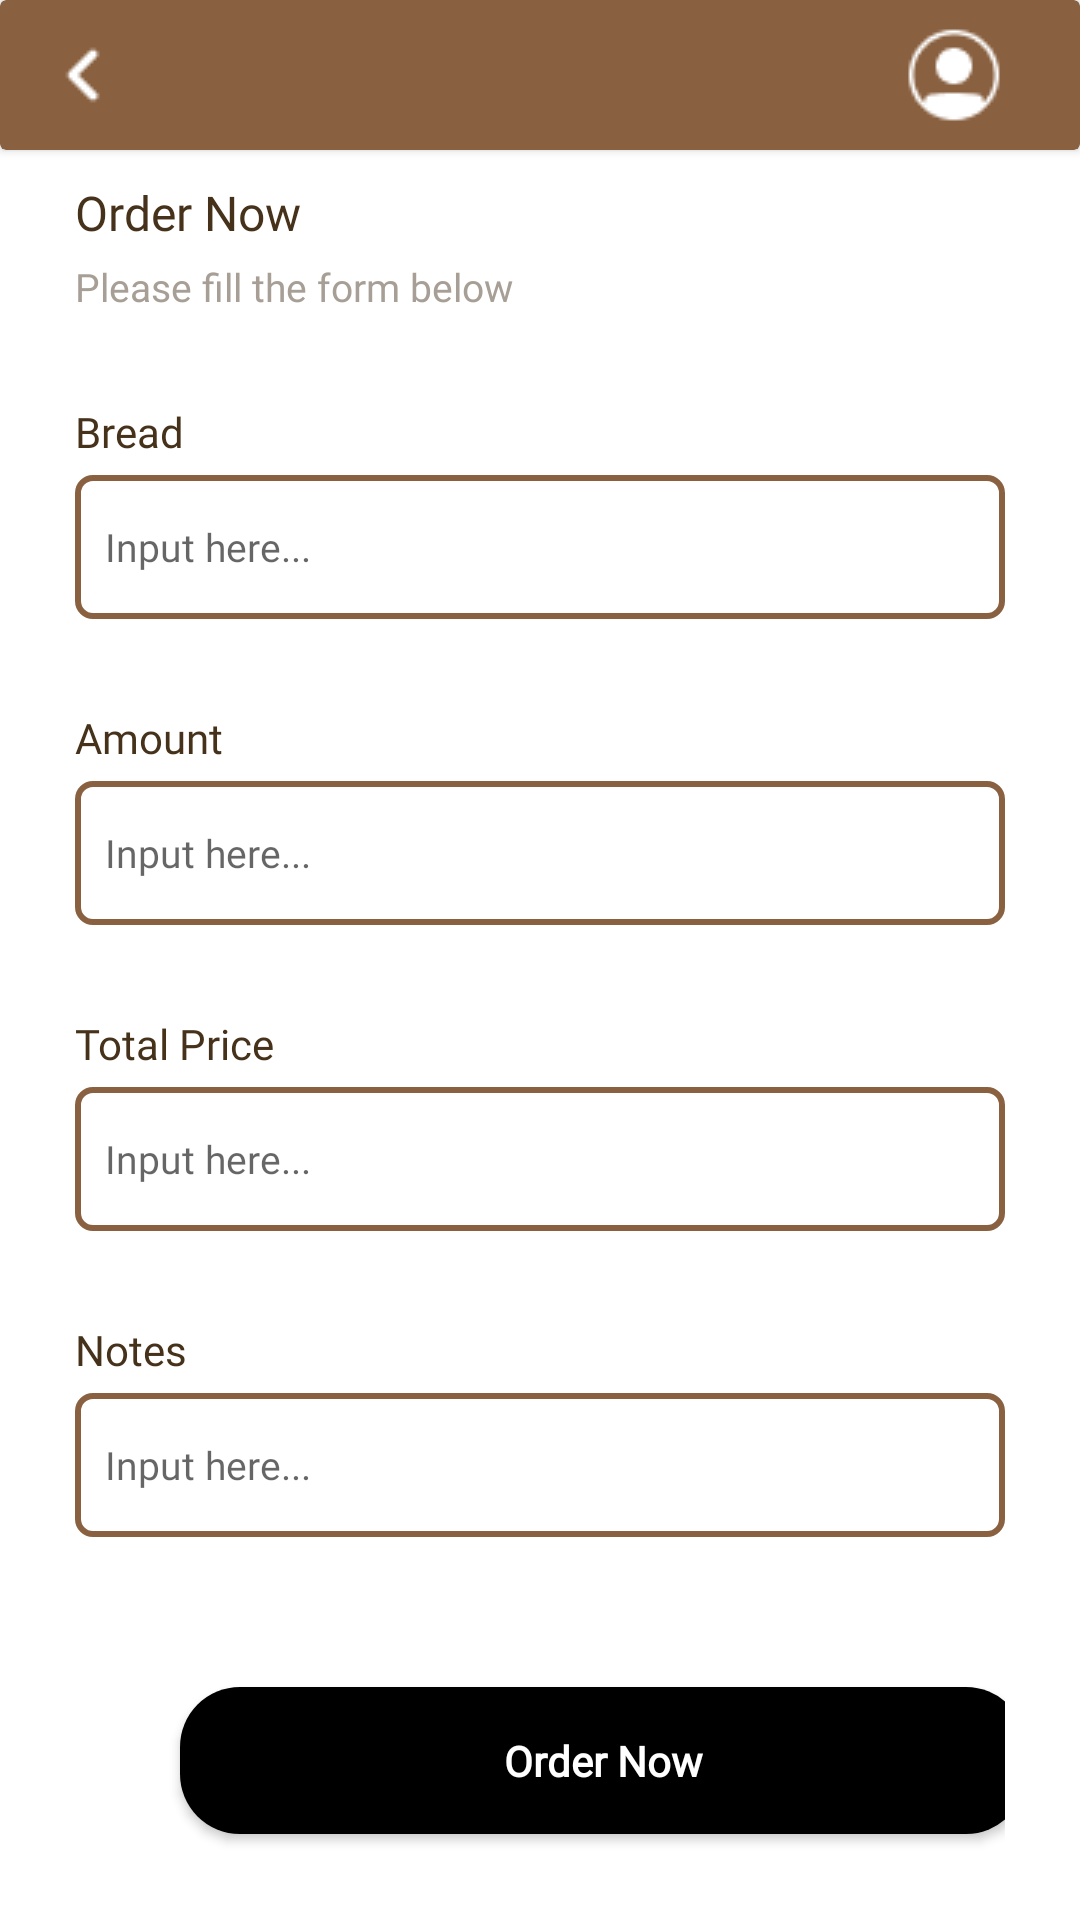

Icons on this 1080px x 1920px Android screen, each with its box as rect(x1, y1, x2, y2):
back: rect(66, 48, 100, 102)
user: rect(908, 29, 1000, 121)
